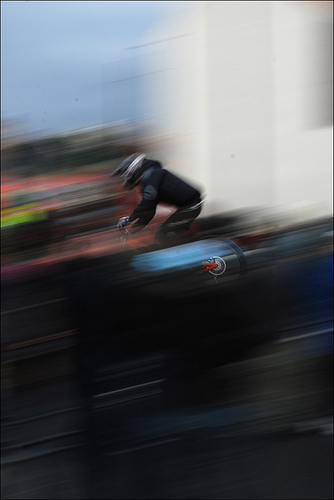helmet: (107, 154, 149, 184)
